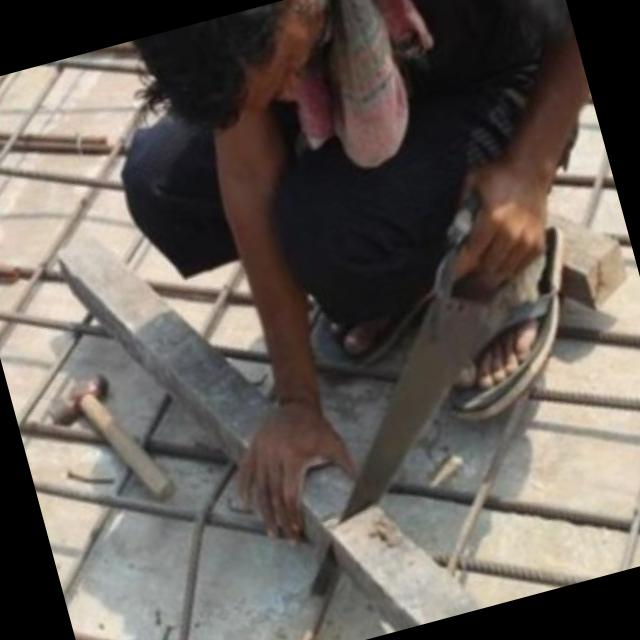not-gloved: (212, 382, 372, 554), (426, 150, 576, 284)
